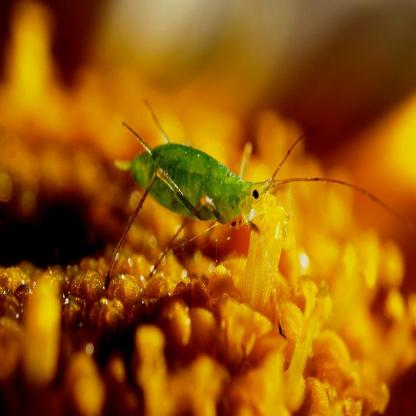aphid: (101, 84, 371, 304)
